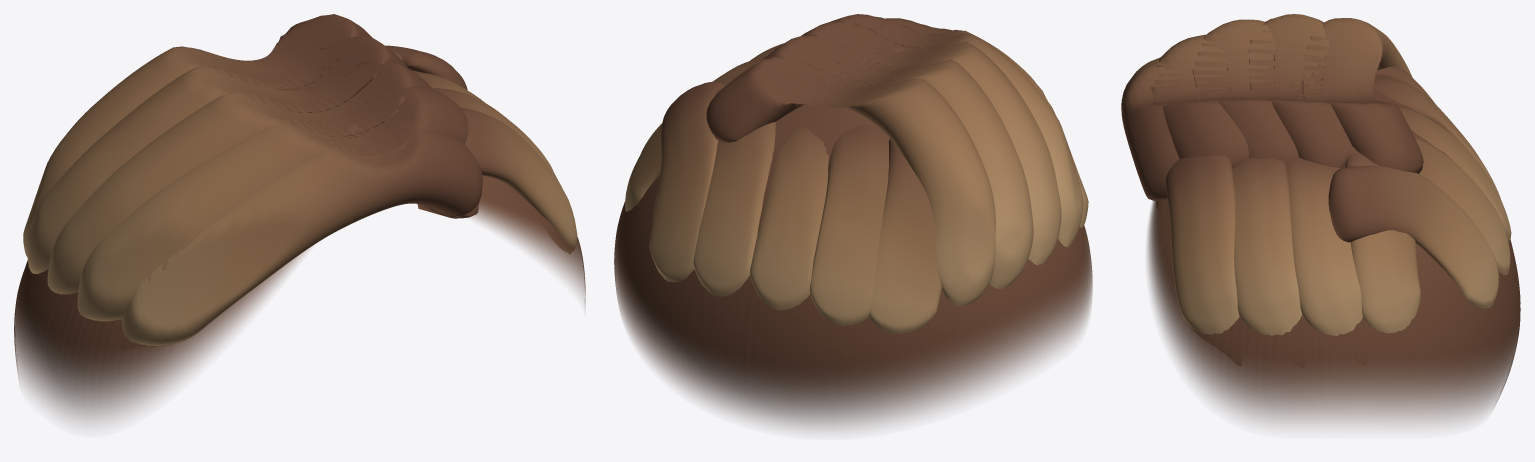
File: Ombre-45efe110d885253-hair.glb
3 renders of one model, left to right at view 1: azimuth 30°, elevation 25°; view 2: azimuth 150°, elevation 25°; view 3: azimuth 270°, elevation 25°, orthographic. The views are drawn at different scales.
Parts seen in each view (by area): view 1: 226 hair / Hair252 / sculpted locks.001, 226 hair / Hair252 / gentle tonal variation.001, 226 hair / Hair252 / restored153 fade coverage.001; view 2: 226 hair / Hair252 / sculpted locks.001, 226 hair / Hair252 / restored153 fade coverage.001, 226 hair / Hair252 / gentle tonal variation.001; view 3: 226 hair / Hair252 / sculpted locks.001, 226 hair / Hair252 / restored153 fade coverage.001, 226 hair / Hair252 / gentle tonal variation.001.
Boxes of the visible parts, x1,y1,x2,y2 form: 226 hair / Hair252 / sculpted locks.001: [23, 14, 557, 321]; 226 hair / Hair252 / gentle tonal variation.001: [122, 107, 577, 345]; 226 hair / Hair252 / restored153 fade coverage.001: [14, 82, 585, 422]; 226 hair / Hair252 / sculpted locks.001: [625, 14, 1083, 333]; 226 hair / Hair252 / restored153 fade coverage.001: [614, 70, 1092, 430]; 226 hair / Hair252 / gentle tonal variation.001: [750, 18, 1088, 326]; 226 hair / Hair252 / sculpted locks.001: [1150, 14, 1511, 335]; 226 hair / Hair252 / restored153 fade coverage.001: [1147, 85, 1520, 425]; 226 hair / Hair252 / gentle tonal variation.001: [1121, 57, 1500, 334].
Bounding box in the file's own units: 0.976 × 0.7079 × 0.7562.
Materials: 3 (3 with a texture image).
